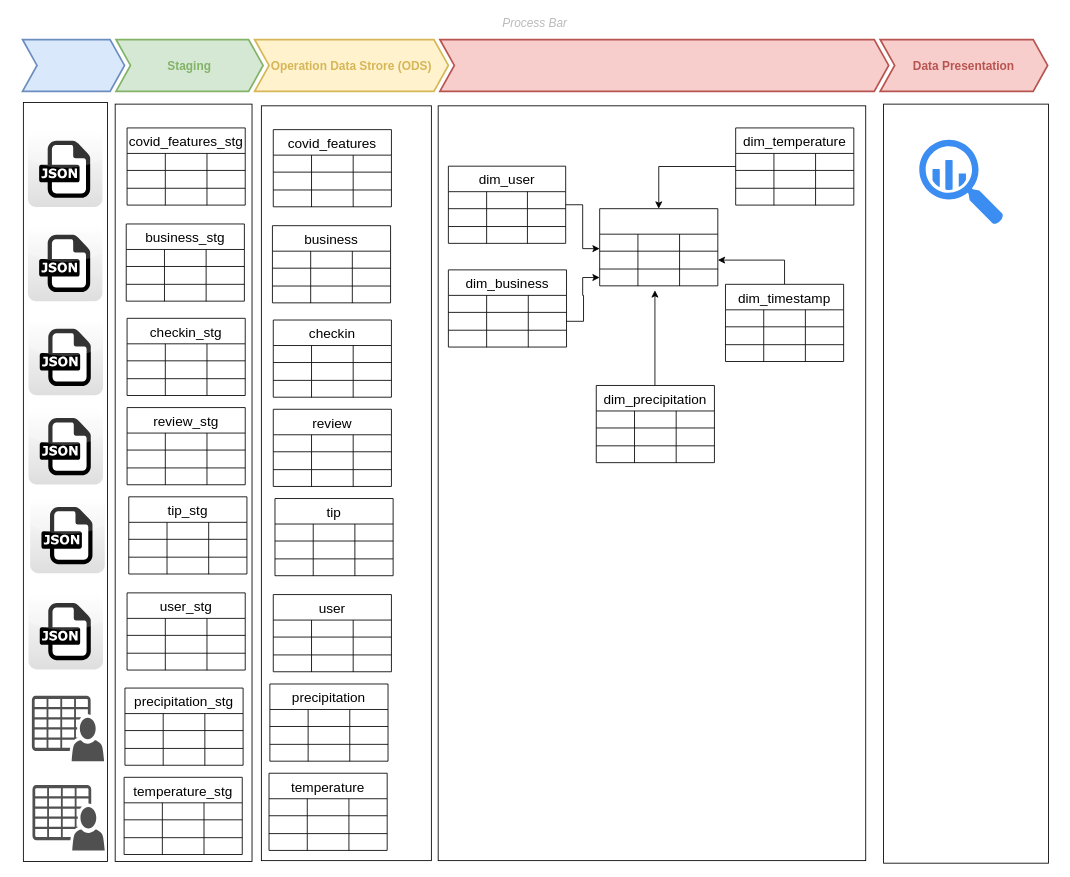
Some shapes in this 1070 by 877 pixel diagram are drawn without their labels. Here are the shapes that lost their labels. From the top down, the box of each, then its label:
(21, 38, 125, 92): Data Source
(439, 38, 889, 92): Data Warehouse
(599, 208, 718, 286): fact_review
